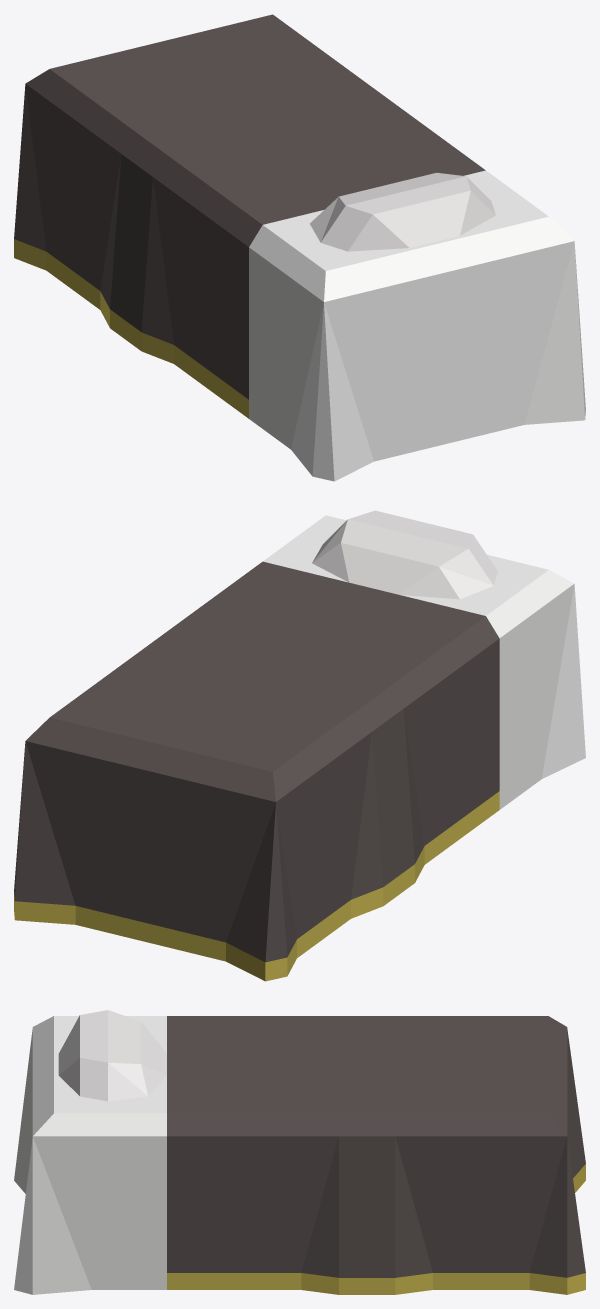
Rendered from obj_bed_5_0.obj.
3 renders of one model, top to bottom at view 1: azimuth 30°, elevation 25°; view 2: azimuth 150°, elevation 25°; view 3: azimuth 270°, elevation 25°, orthographic. The views are drawn at different scales.
Size of the model in its own units: 0.9375 by 0.7266 by 1.9.
